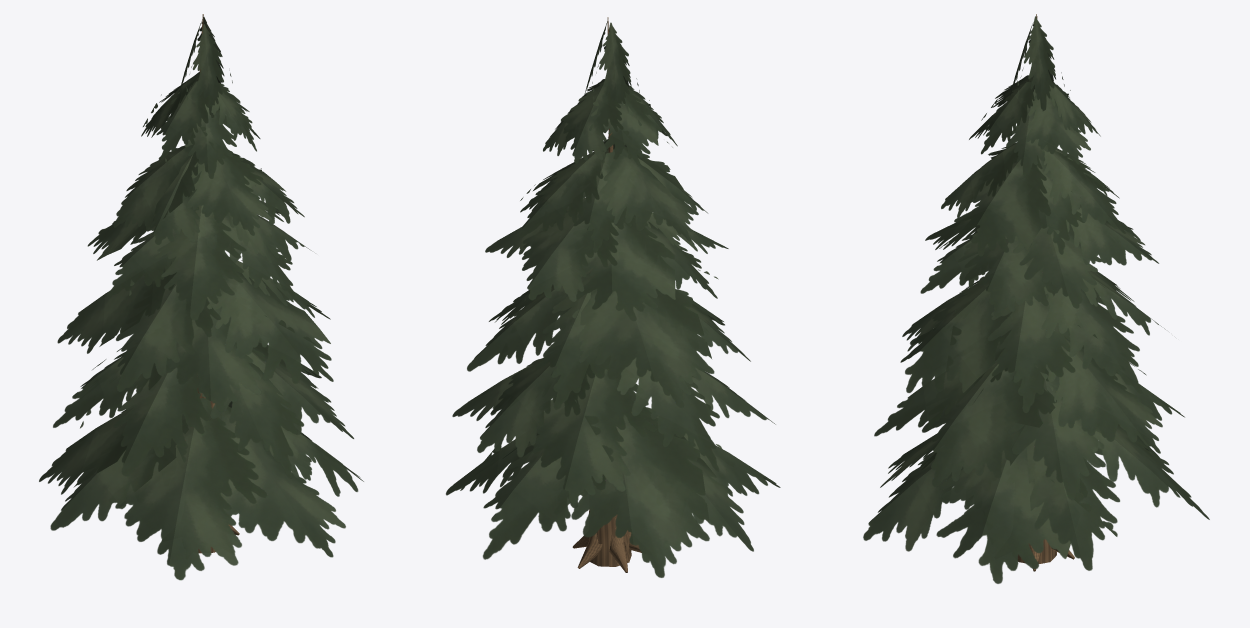
File: source_4.glb
3 views of the same model, side by side, from view 1: azimuth 30°, elevation 25°; view 2: azimuth 150°, elevation 25°; view 3: azimuth 270°, elevation 25° (orthographic). The views are drawn at different scales.
Parts seen in each view (by area): view 1: woodland-pine-b · evaluated preview mesh; view 2: woodland-pine-b · evaluated preview mesh; view 3: woodland-pine-b · evaluated preview mesh.
Part boxes in pixels (bbox=[...]): woodland-pine-b · evaluated preview mesh: bbox=[39, 14, 363, 580]; woodland-pine-b · evaluated preview mesh: bbox=[446, 17, 780, 577]; woodland-pine-b · evaluated preview mesh: bbox=[863, 14, 1209, 583].
Size of the model in its own units: 7.18 by 11.41 by 7.58.
Materials: 3 (2 with a texture image).
